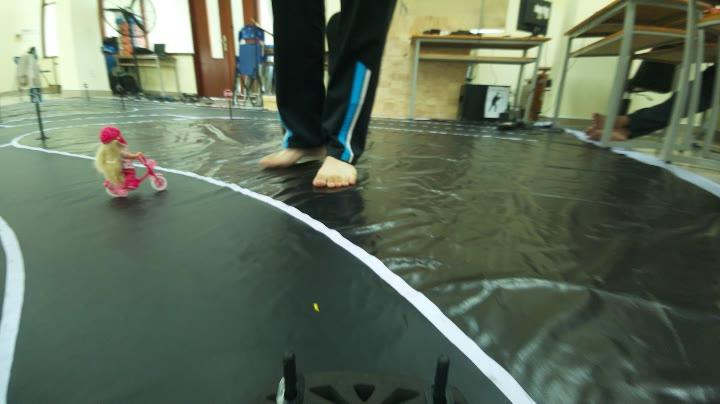pedestrian: (86, 125, 187, 198)
